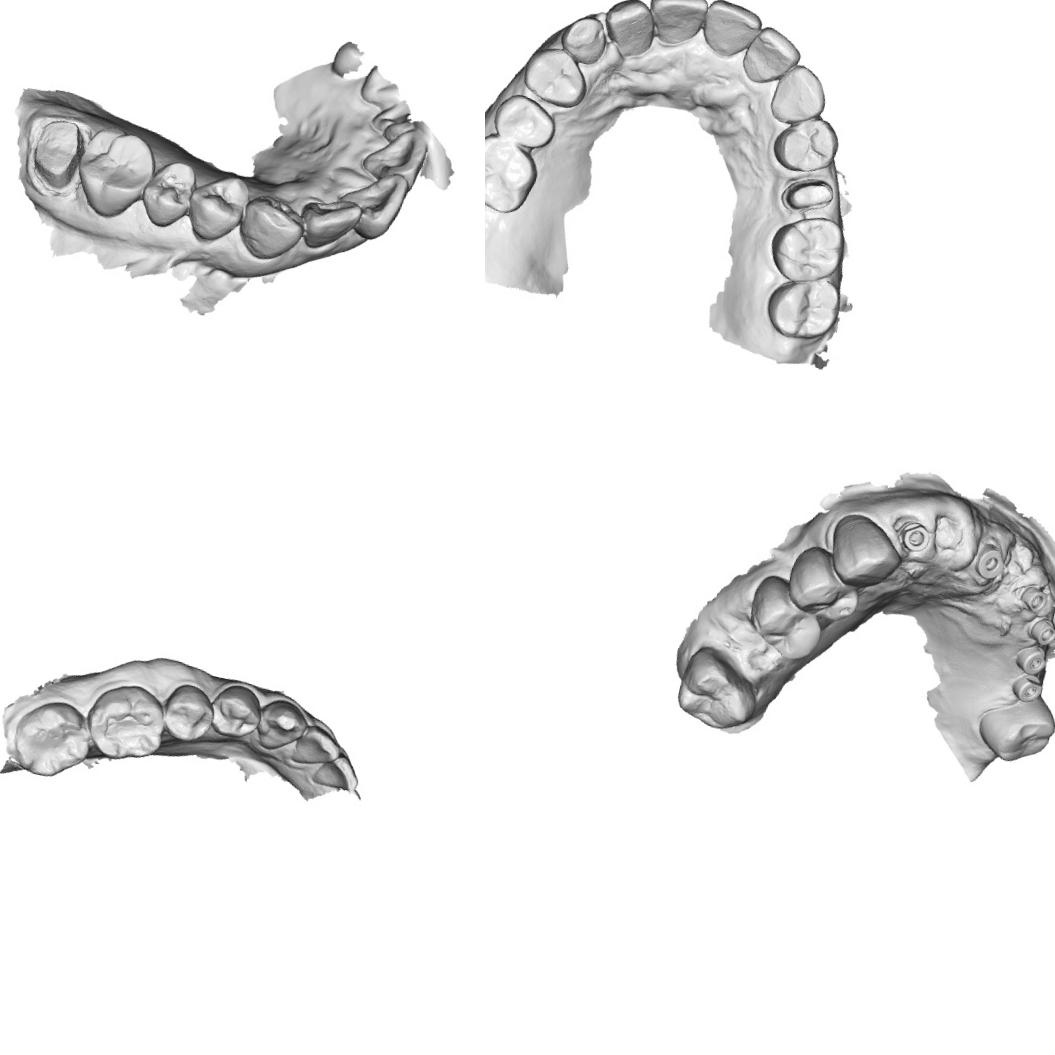canine: (822, 508, 911, 598), (229, 188, 312, 268), (765, 59, 834, 133), (251, 694, 313, 758), (554, 8, 611, 69)
crown: (22, 108, 91, 198), (778, 170, 838, 220)
implant: (970, 541, 1011, 584), (893, 516, 934, 557), (1006, 668, 1046, 706), (1011, 641, 1050, 677), (1016, 582, 1052, 617), (1024, 613, 1055, 649)
incisor: (330, 162, 413, 247), (355, 119, 440, 192), (294, 190, 367, 260), (738, 20, 808, 92), (696, 0, 766, 64), (596, 0, 662, 64), (640, 0, 711, 53), (288, 720, 346, 773), (310, 750, 364, 796)
molar: (64, 119, 164, 229), (670, 641, 767, 739), (79, 674, 173, 768), (4, 691, 97, 786), (972, 679, 1055, 770), (763, 206, 850, 291), (760, 268, 846, 348), (485, 128, 544, 220)
premolar: (740, 570, 832, 666), (780, 538, 868, 628), (178, 163, 256, 251), (767, 106, 845, 180), (516, 40, 595, 112), (135, 154, 201, 234), (487, 88, 563, 154), (156, 679, 220, 746), (206, 679, 268, 743)
